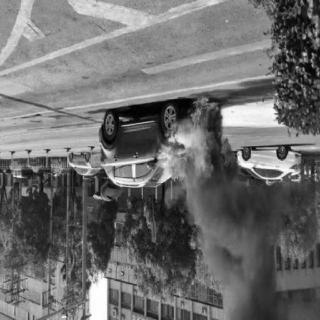Fire: (192, 98, 232, 186)
